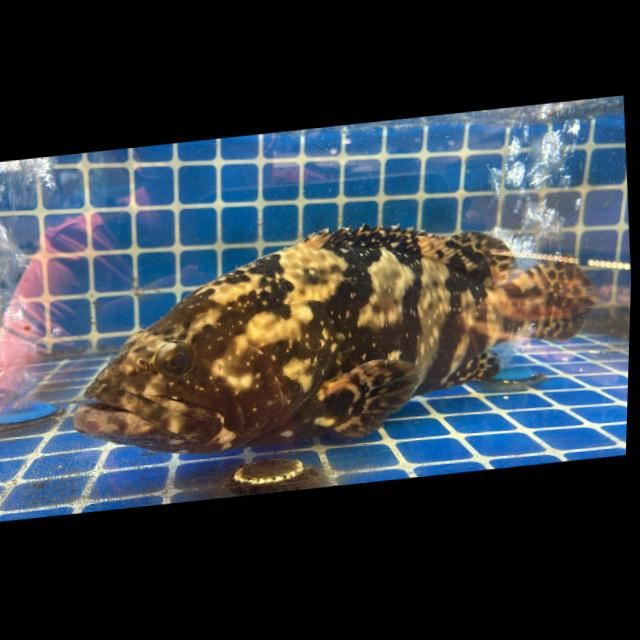Groupers: (59, 196, 608, 472)
